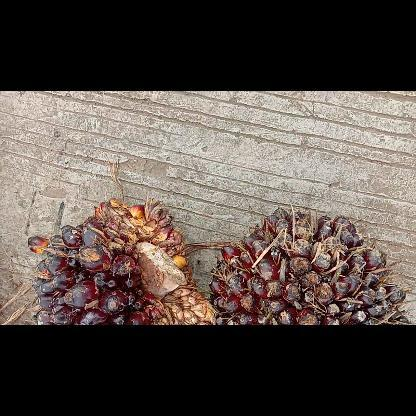TBS mentah: (20, 194, 218, 324), (206, 206, 412, 324)
